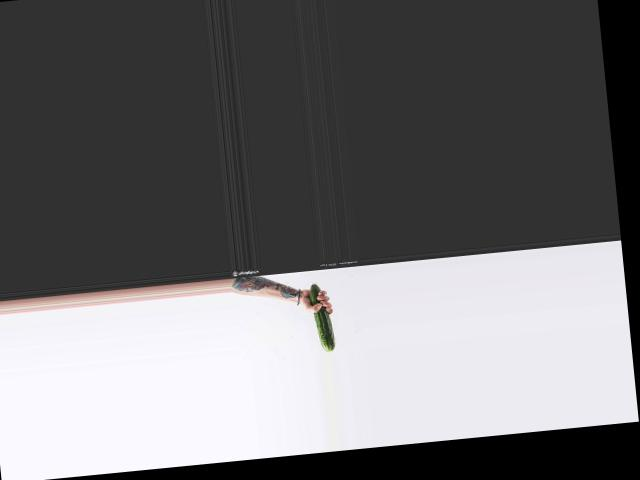cucumber: (309, 282, 336, 353)
